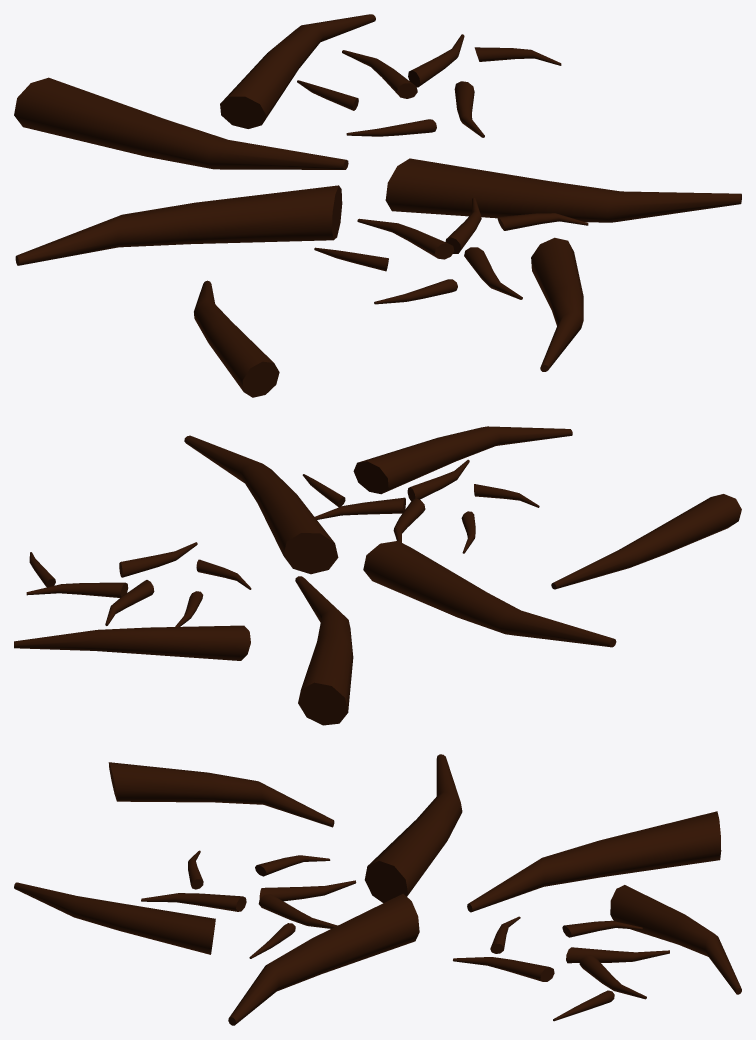
File: branches.FBX
The picture shows the model from 3 angles, top to bottom: view 1: azimuth 30°, elevation 25°; view 2: azimuth 150°, elevation 25°; view 3: azimuth 270°, elevation 25°; orthographic projection. The views are drawn at different scales.
Visible parts, largest first — view 1: branches002; view 2: branches002; view 3: branches002.
Boxes of the visible parts, box(x1,y1,x2,y2) form: branches002: box(14, 14, 741, 397); branches002: box(14, 426, 741, 725); branches002: box(14, 754, 741, 1025).
Bounding box in the file's own units: 29.67 × 2.22 × 34.47.
